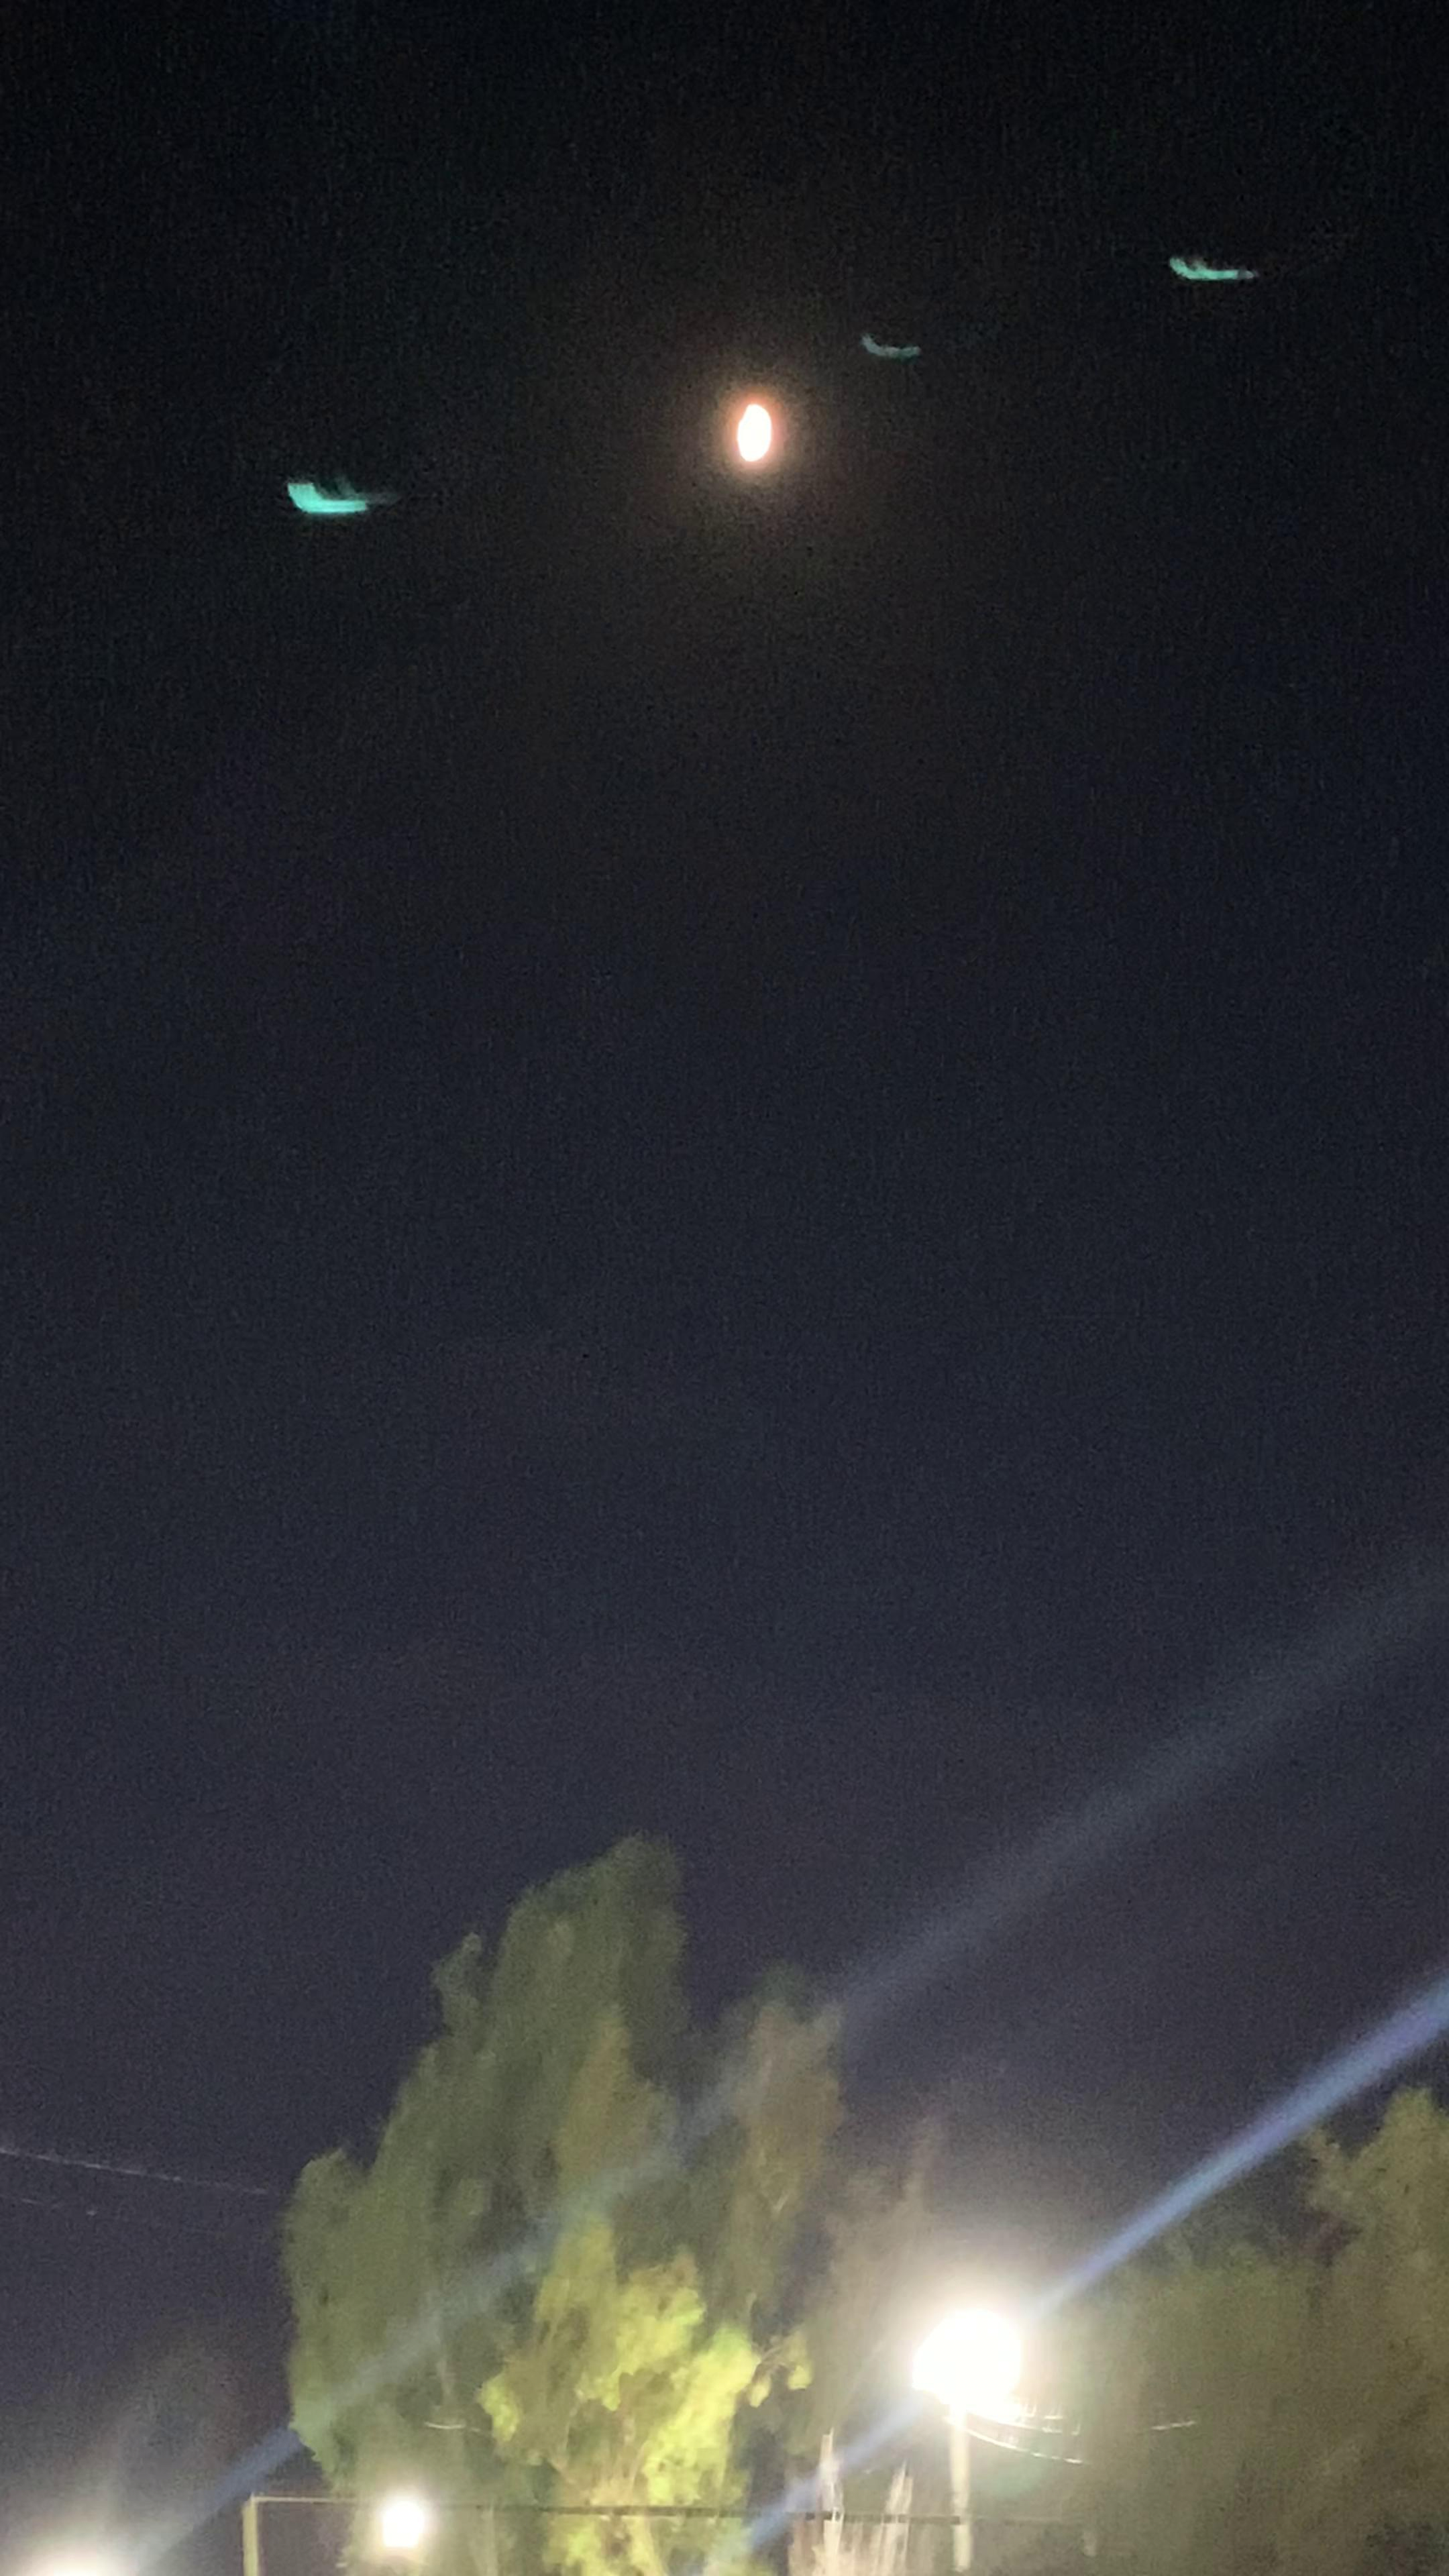moon: (679, 356, 839, 502)
